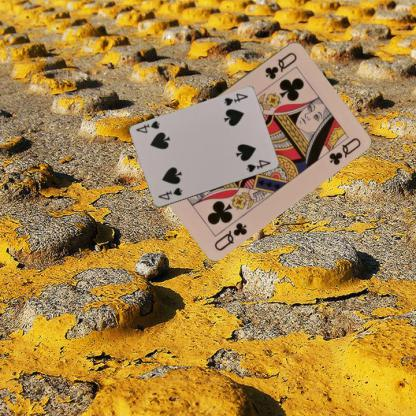4s: (221, 90, 249, 107), (156, 185, 183, 202)
Qc: (212, 219, 249, 252), (262, 49, 298, 81)
